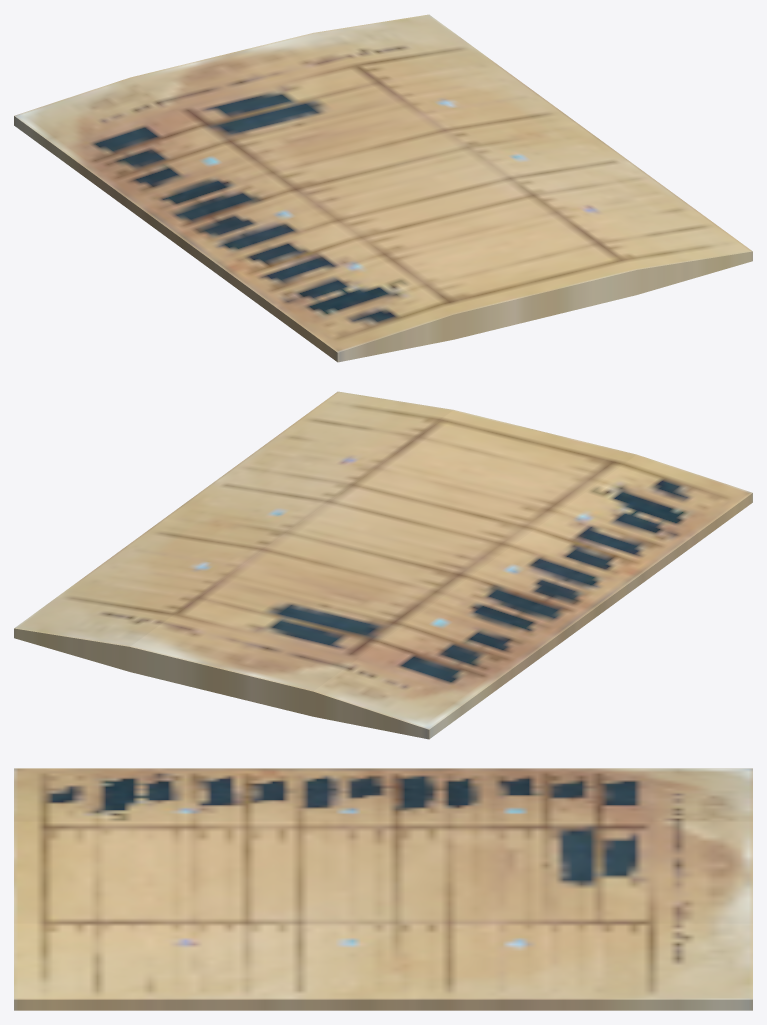
Rendered from Classic64_PapersEnvolopeRedacted_Model.fbx.
The picture shows the model from 3 angles, top to bottom: view 1: azimuth 30°, elevation 25°; view 2: azimuth 150°, elevation 25°; view 3: azimuth 270°, elevation 25°; orthographic projection. The views are drawn at different scales.
Visible parts, largest first — view 1: Classic64_PapersEnvolopeRedacted_Part000; view 2: Classic64_PapersEnvolopeRedacted_Part000; view 3: Classic64_PapersEnvolopeRedacted_Part000.
Boxes of the visible parts, box(x1,y1,x2,y2) form: Classic64_PapersEnvolopeRedacted_Part000: box(14, 14, 752, 362); Classic64_PapersEnvolopeRedacted_Part000: box(14, 391, 752, 739); Classic64_PapersEnvolopeRedacted_Part000: box(14, 768, 752, 1010).
Bounding box in the file's own units: 0.2141 × 0.0124 × 0.2892.
Materials: 1 (1 with a texture image).
